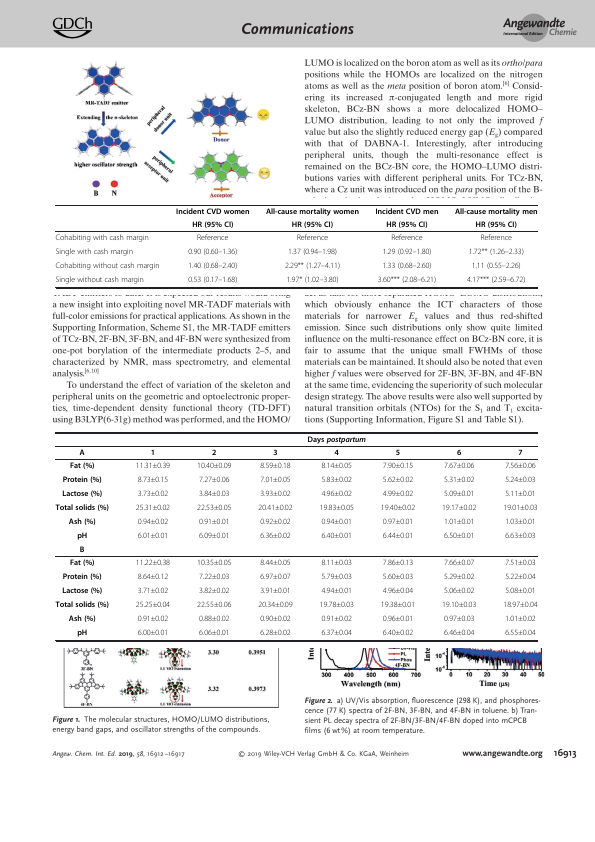borderless: (55, 431, 537, 640), (54, 203, 537, 287)
cell: (54, 261, 160, 271), (54, 233, 150, 243), (55, 275, 145, 285), (265, 207, 360, 216), (54, 247, 134, 257), (454, 207, 538, 216), (175, 207, 250, 216), (377, 275, 437, 285), (466, 275, 526, 285), (374, 207, 439, 216), (468, 247, 525, 257), (284, 261, 341, 271), (55, 503, 110, 513), (55, 600, 110, 610), (285, 275, 339, 285), (307, 435, 367, 444), (187, 247, 238, 257), (287, 247, 338, 257), (381, 247, 432, 257), (187, 261, 238, 271), (381, 261, 432, 271), (471, 261, 522, 271), (187, 275, 238, 285), (191, 220, 234, 230), (291, 220, 334, 230), (385, 220, 428, 230), (475, 220, 518, 230), (61, 489, 103, 499), (61, 586, 103, 596), (62, 475, 102, 485), (62, 572, 102, 582), (390, 233, 424, 243), (479, 233, 513, 243), (196, 233, 229, 243), (296, 233, 329, 243), (68, 517, 96, 527), (68, 614, 96, 624), (69, 461, 95, 471), (69, 558, 95, 568), (135, 462, 171, 469), (196, 462, 232, 469), (135, 504, 171, 511), (196, 504, 232, 511), (257, 504, 293, 511), (319, 504, 355, 511), (380, 504, 416, 511), (441, 504, 477, 511), (502, 504, 538, 511), (135, 559, 171, 566), (196, 559, 232, 566), (135, 601, 171, 608), (196, 601, 232, 608), (257, 601, 293, 608), (319, 601, 355, 608), (380, 601, 416, 608), (441, 601, 477, 608), (502, 601, 538, 608), (259, 462, 292, 469), (320, 462, 353, 469), (504, 462, 537, 469), (259, 476, 292, 483), (320, 476, 353, 483), (504, 476, 537, 483), (259, 490, 292, 497), (320, 490, 353, 497), (504, 490, 537, 497), (259, 518, 292, 525), (320, 518, 353, 525), (504, 518, 537, 525), (259, 532, 292, 539), (320, 532, 353, 539), (504, 532, 537, 539), (259, 559, 292, 566), (320, 559, 353, 566), (504, 559, 537, 566), (259, 573, 292, 580), (320, 573, 353, 580), (504, 573, 537, 580), (259, 587, 292, 594), (320, 587, 353, 594), (504, 587, 537, 594), (259, 615, 292, 622), (320, 615, 353, 622), (504, 615, 537, 622), (259, 629, 292, 636), (320, 629, 353, 636), (504, 629, 537, 636), (382, 462, 414, 469), (443, 462, 475, 469), (137, 476, 169, 483), (198, 476, 230, 483), (382, 476, 414, 483), (443, 476, 475, 483), (137, 490, 169, 497), (198, 490, 230, 497), (382, 490, 414, 497), (443, 490, 475, 497), (137, 518, 169, 525), (198, 518, 230, 525), (382, 518, 414, 525), (443, 518, 475, 525), (137, 532, 169, 539), (198, 532, 230, 539), (382, 532, 414, 539), (443, 532, 475, 539), (382, 559, 414, 566), (443, 559, 475, 566), (137, 573, 169, 580), (198, 573, 230, 580), (382, 573, 414, 580), (443, 573, 475, 580), (137, 587, 169, 594), (198, 587, 230, 594), (382, 587, 414, 594), (443, 587, 475, 594), (137, 615, 169, 622), (198, 615, 230, 622), (382, 615, 414, 622), (443, 615, 475, 622), (137, 629, 169, 636), (198, 629, 230, 636), (382, 629, 414, 636), (443, 629, 475, 636), (76, 531, 88, 541), (76, 628, 88, 638), (79, 448, 86, 458), (333, 448, 340, 458), (150, 448, 156, 458), (211, 448, 217, 458), (272, 448, 278, 458), (395, 448, 401, 458), (456, 448, 462, 458), (517, 448, 523, 458), (79, 545, 85, 555)
